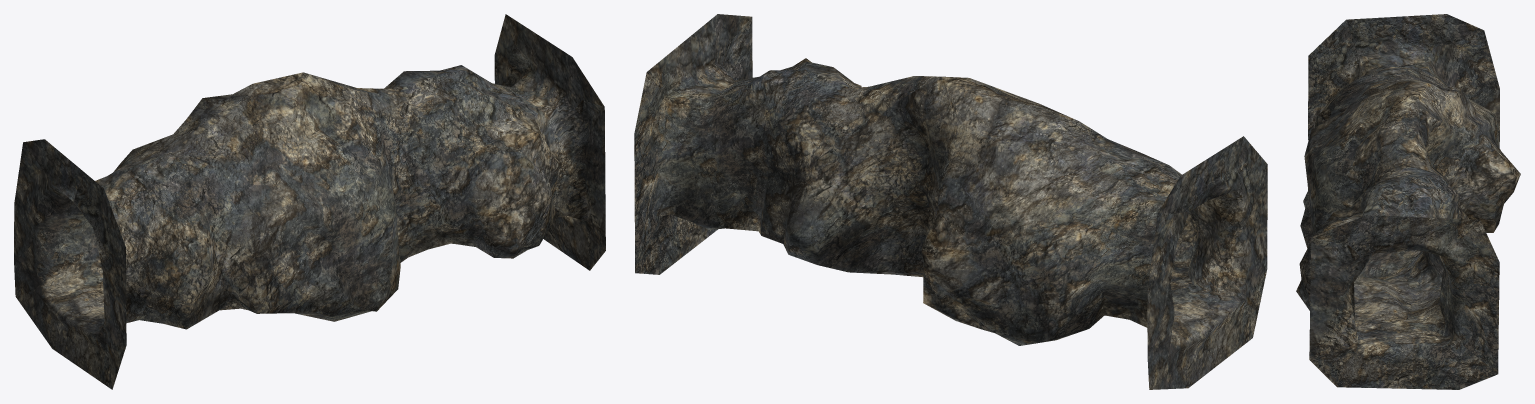
Rendered from Module3_LOD1.fbx.
3 views of the same model, side by side, from view 1: azimuth 30°, elevation 25°; view 2: azimuth 150°, elevation 25°; view 3: azimuth 270°, elevation 25° (orthographic). The views are drawn at different scales.
Visible parts, largest first — view 1: cave_el3_1400_Group64457; view 2: cave_el3_1400_Group64457; view 3: cave_el3_1400_Group64457.
Part boxes in pixels (x1,y1,x2,y2): cave_el3_1400_Group64457: (14,14,605,389); cave_el3_1400_Group64457: (634,14,1267,389); cave_el3_1400_Group64457: (1296,14,1520,389).
Size of the model in its own units: 20.72 by 9.04 by 9.54.
